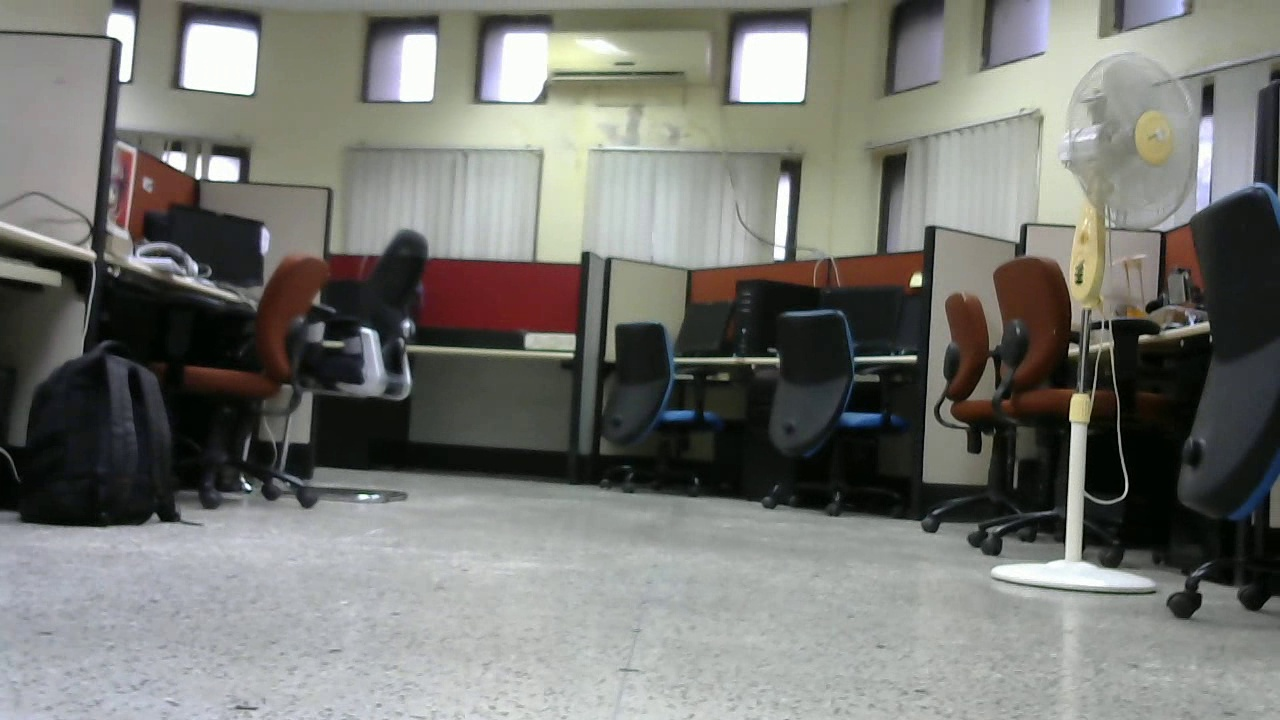chair: (940, 256, 1124, 555), (179, 253, 318, 505), (761, 308, 905, 530), (316, 227, 432, 500), (580, 319, 739, 497)
